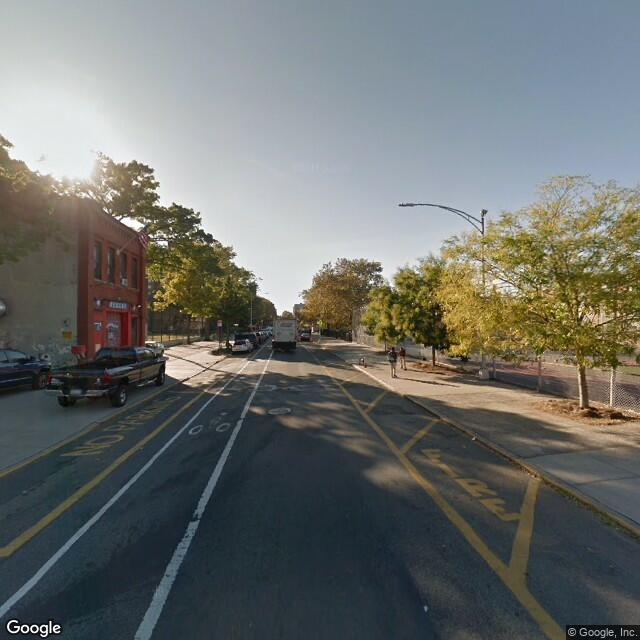litter: (469, 434, 477, 442), (421, 604, 428, 611)
